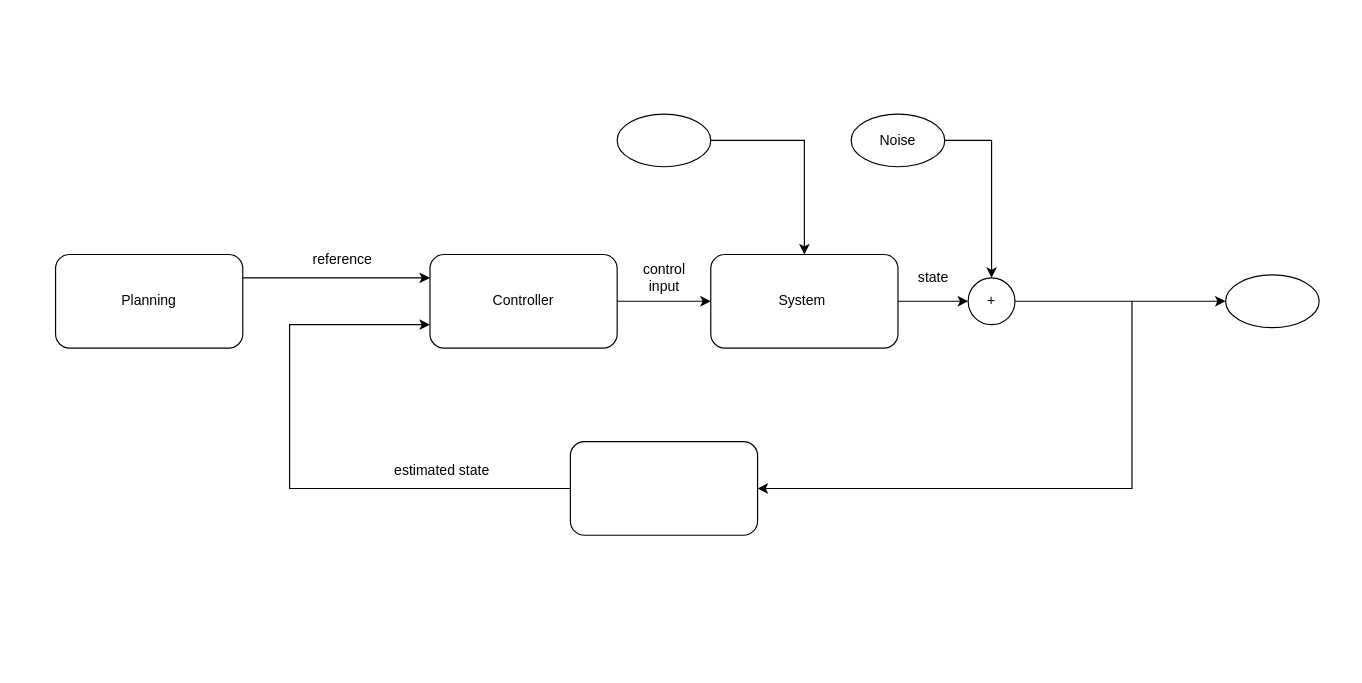
Some shapes in this 1362 by 683 pixel diagram are drawn without their labels. Here are the shapes that lost their labels. From the top down, the box of each, then its label:
(616, 113, 711, 167): Disturbance
(1224, 274, 1319, 328): measurement
(569, 441, 758, 535): Estimator
